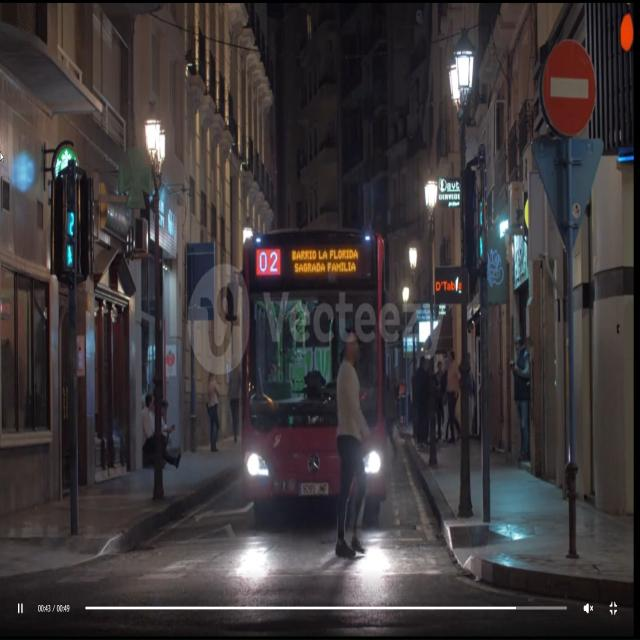pedestrian: (335, 333, 369, 558)
